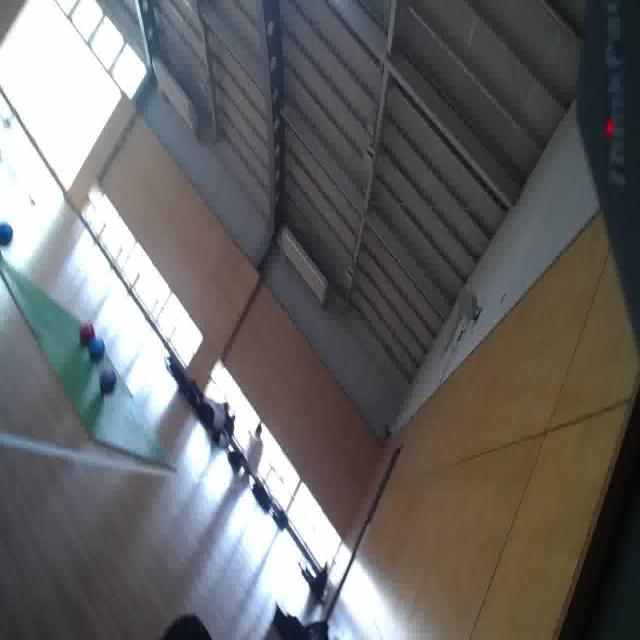blue_ball: (0, 218, 16, 248), (90, 333, 105, 364)
purple_ball: (99, 365, 118, 397)
red_ball: (79, 322, 95, 348)
